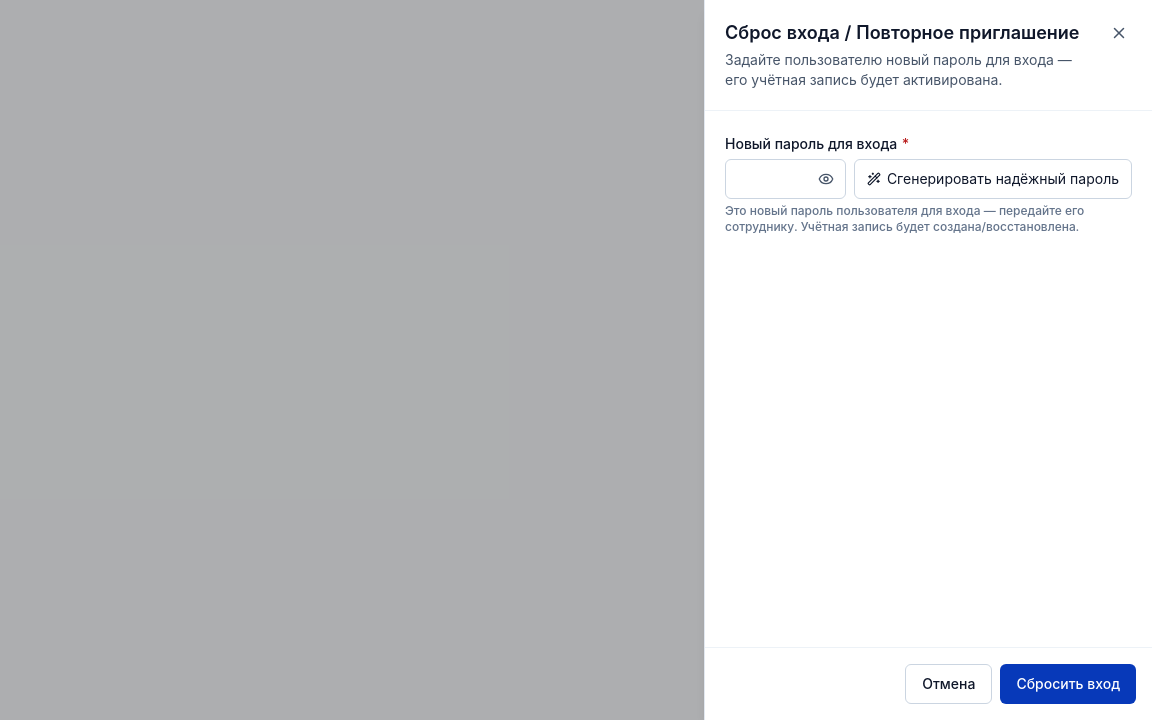
Test case: <ResetLoginDialog /> › refuses submission when the password is too weak (client-side)
This screenshot has width=1152, height=720.
Type "weak" into the password field with test id "reset-login-password-input" at (785,179), box [725,159,846,199]
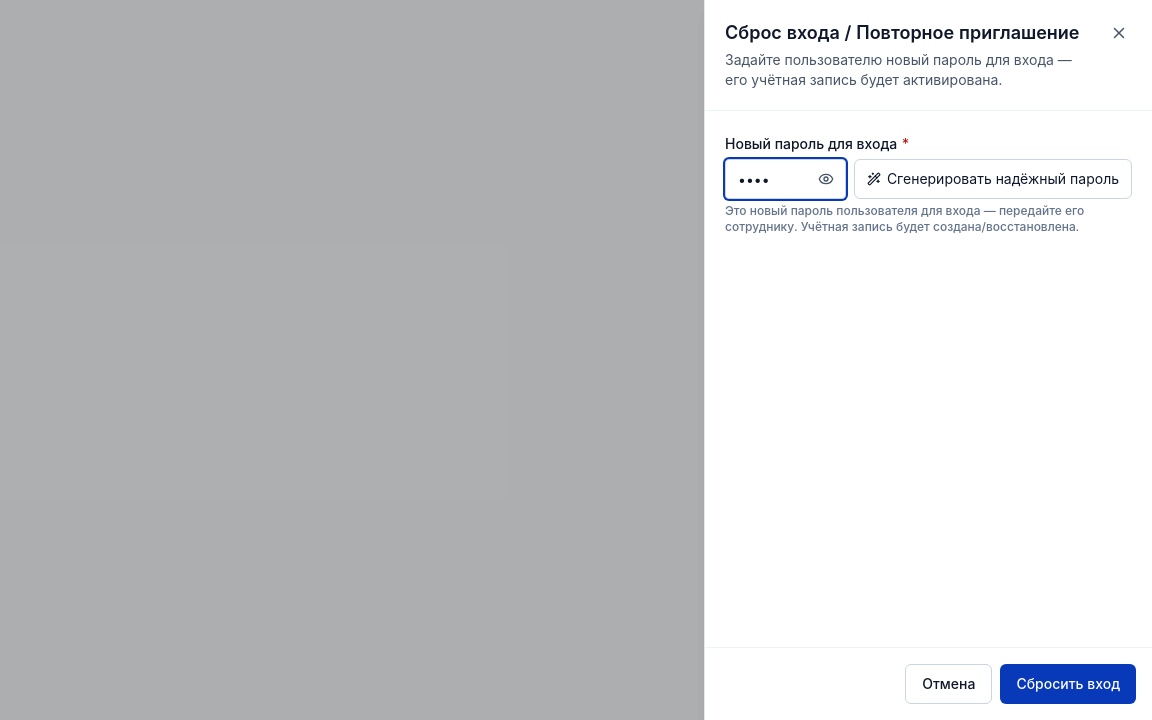
Click the button "Сбросить вход" at (1068,684), box [1000,664,1136,704]
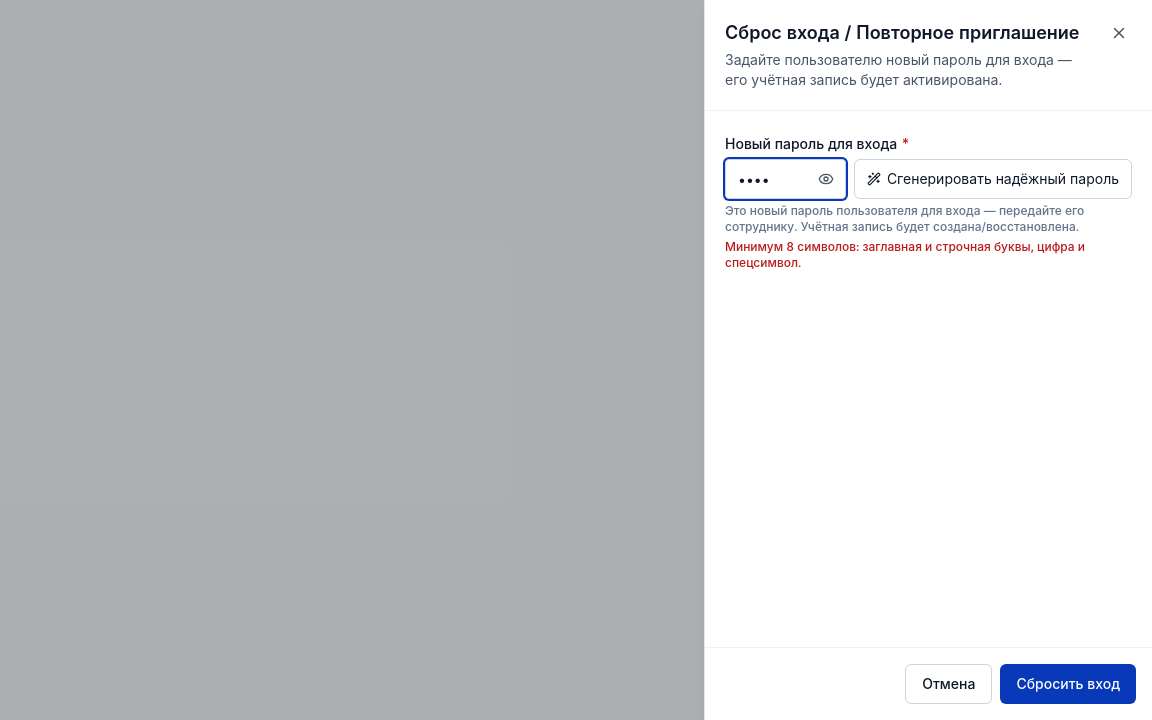
Now the message "Минимум 8 символов: заглавная и строчная буквы, цифра и спецсимвол." is shown, box [725,239,1132,271]
